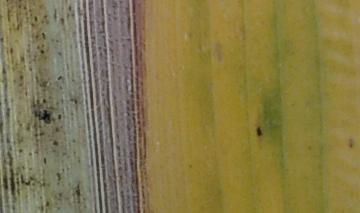tarspot: (256, 125, 263, 139)
